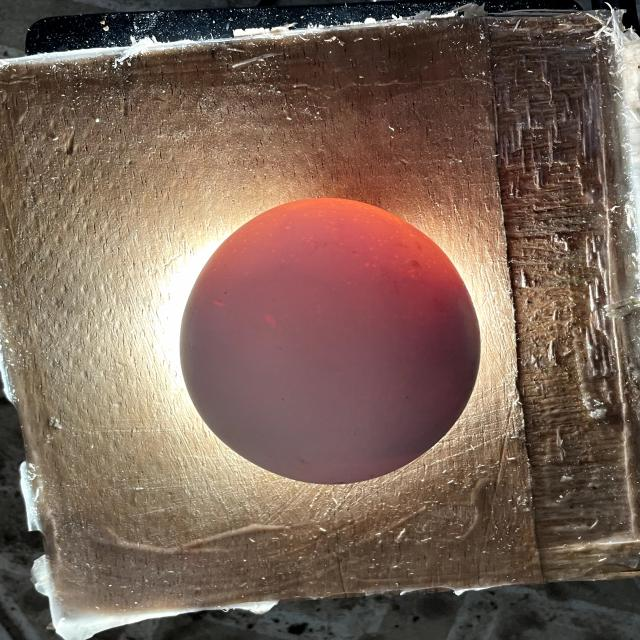fertile: (180, 198, 480, 484)
